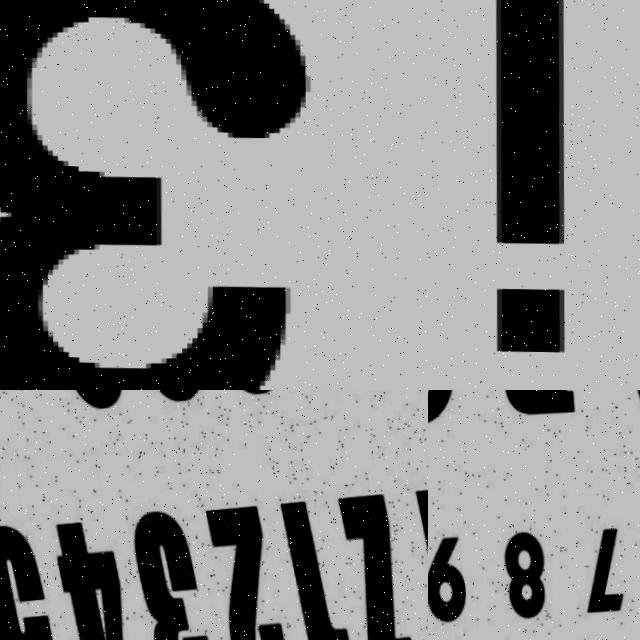0: (28, 390, 142, 439)
1: (273, 486, 366, 640)
2: (198, 493, 303, 640)
3: (0, 0, 323, 390), (123, 501, 229, 640)
4: (43, 497, 156, 640)
5: (0, 512, 85, 640)
7: (578, 508, 631, 620)
8: (495, 514, 557, 624)
9: (428, 517, 473, 627)
J: (478, 0, 638, 361)
